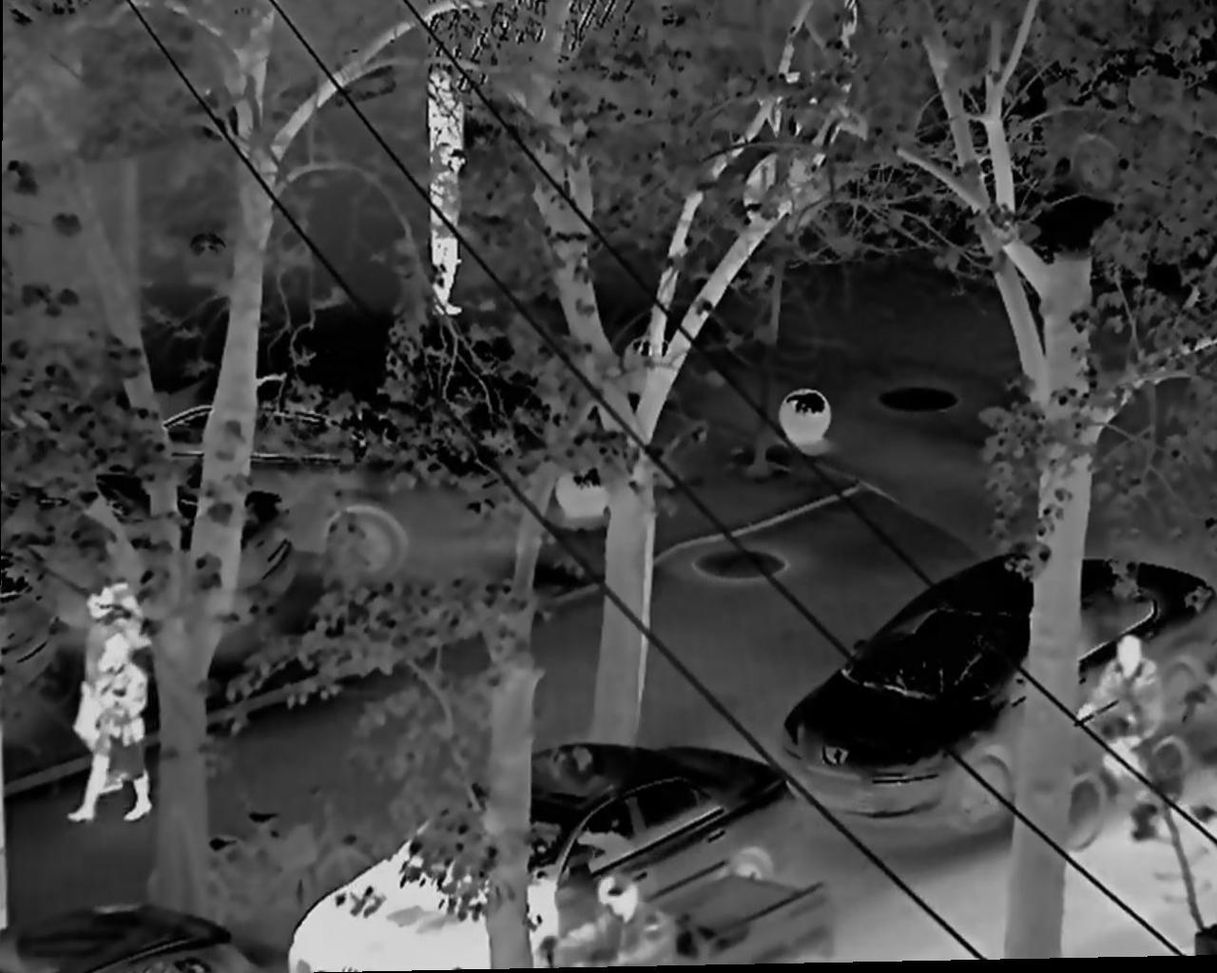person: (70, 631, 151, 821), (1076, 637, 1161, 796), (553, 879, 678, 973), (430, 147, 470, 315)
